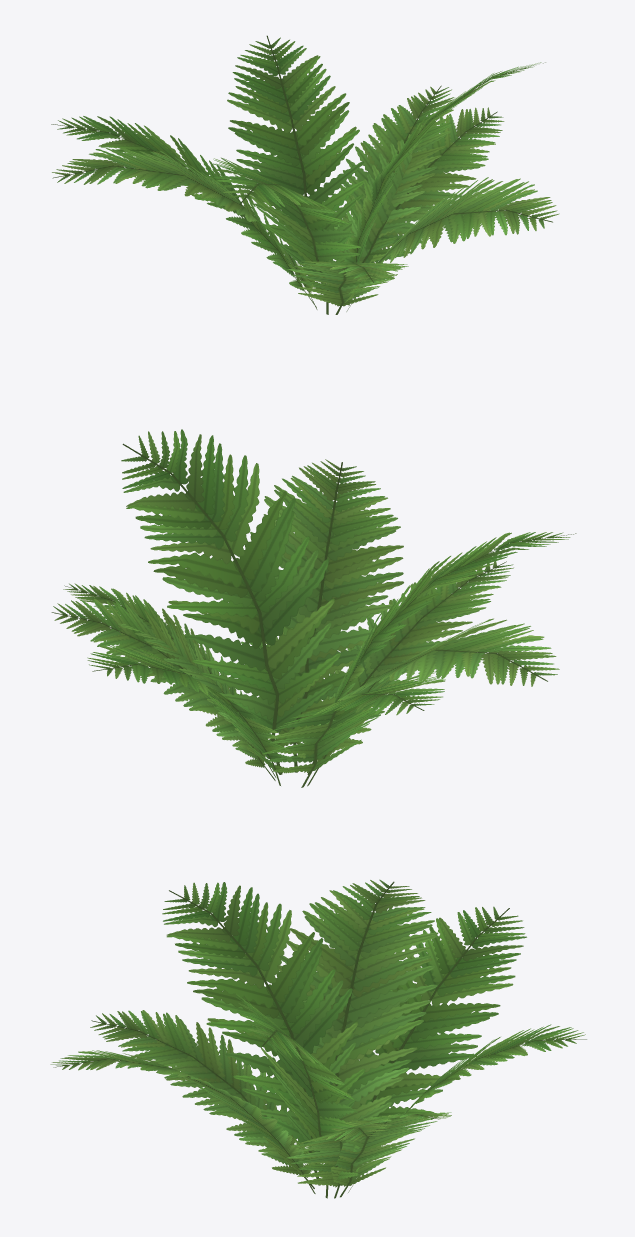
File: Fern_B.fbx
The picture shows the model from 3 angles, top to bottom: view 1: azimuth 30°, elevation 25°; view 2: azimuth 150°, elevation 25°; view 3: azimuth 270°, elevation 25°; orthographic projection. The views are drawn at different scales.
Visible parts, largest first — view 1: Fern_B; view 2: Fern_B; view 3: Fern_B.
Boxes of the visible parts, x1,y1,x2,y2 form: Fern_B: [51, 35, 559, 314]; Fern_B: [51, 429, 576, 787]; Fern_B: [50, 879, 586, 1198].
Bounding box in the file's own units: 1.04 × 0.5445 × 1.04.
Materials: 1 (1 with a texture image).
